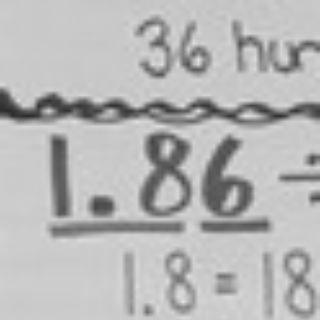.: (86, 193, 116, 218), (139, 299, 156, 317)
1: (46, 130, 77, 219), (117, 246, 139, 317), (259, 250, 279, 320)
3: (130, 13, 174, 80)
6: (197, 131, 256, 218), (176, 17, 215, 78)
8: (135, 128, 192, 219), (283, 248, 318, 320), (162, 247, 199, 315)
